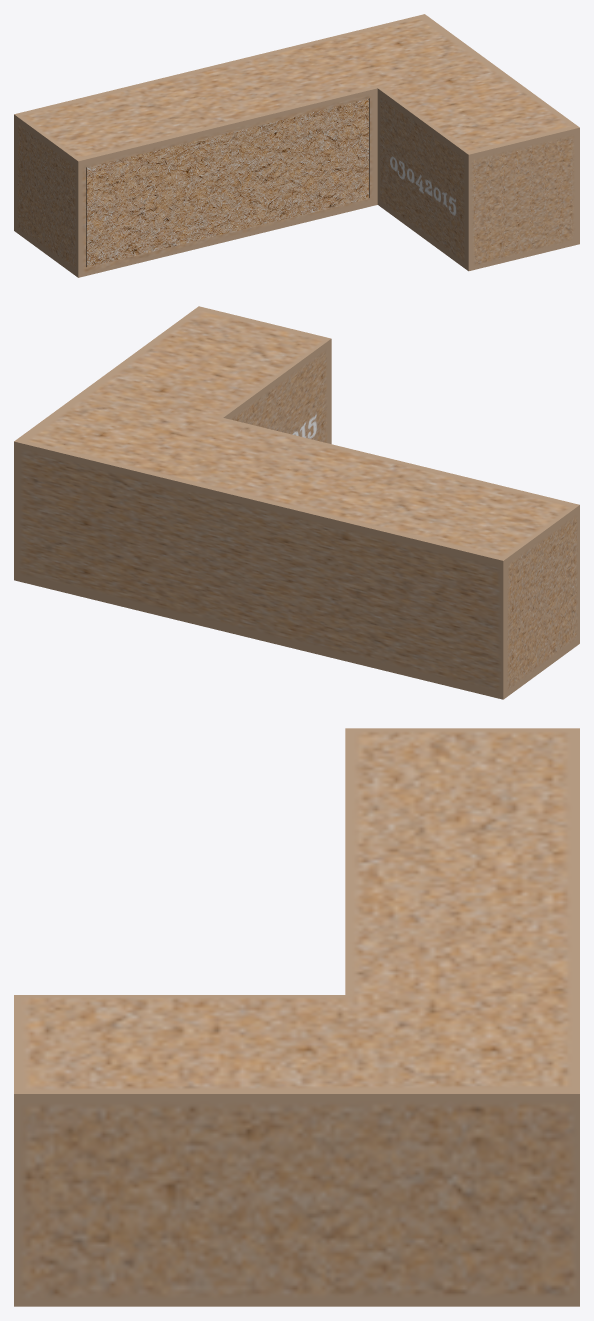
The model's file is JBayer_Desk.fbx.
3 views of the same model, one above another, from view 1: azimuth 30°, elevation 25°; view 2: azimuth 150°, elevation 25°; view 3: azimuth 270°, elevation 25° (orthographic). The views are drawn at different scales.
Parts seen in each view (by area): view 1: Desk, Desk_Door; view 2: Desk; view 3: Desk.
Part boxes in pixels (left/top/right/bottom): Desk: left=14, top=14, right=579, bottom=277; Desk_Door: left=86, top=98, right=368, bottom=267; Desk: left=14, top=306, right=579, bottom=699; Desk: left=14, top=728, right=579, bottom=1306.
Bounding box in the file's own units: 193 × 295 × 80.
Materials: 2 (2 with a texture image).
